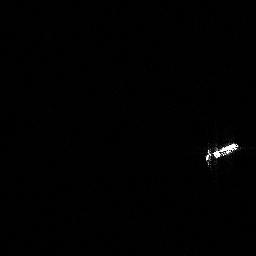ship: (201, 138, 241, 168)
